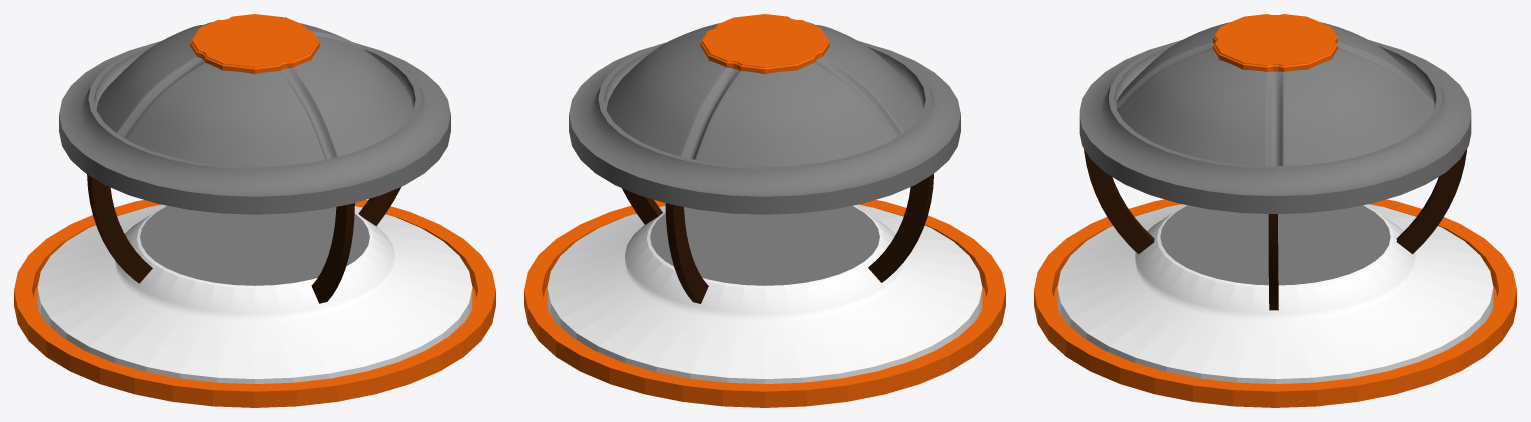
Rendered from Ornate Table FBX.fbx.
3 renders of one model, left to right at view 1: azimuth 30°, elevation 25°; view 2: azimuth 150°, elevation 25°; view 3: azimuth 270°, elevation 25°, orthographic.
Visible parts, largest first — view 1: polySurface18 (×2), polySurface10, pCylinder5, polySurface19, polySurface16, pCube5, pCube4, pCube6; view 2: polySurface18 (×2), polySurface10, pCylinder5, polySurface19, polySurface16, pCube5, pCube7, pCube6; view 3: polySurface18 (×2), polySurface10, pCylinder5, polySurface19, polySurface16, pCube7, pCube4, pCube6.
Part boxes in pixels (x1,y1,x2,y2): polySurface18 (×2): (37, 204, 472, 383); polySurface10: (96, 22, 413, 166); pCylinder5: (59, 41, 450, 214); polySurface19: (14, 200, 495, 407); polySurface16: (190, 14, 319, 74); pCube5: (87, 174, 152, 283); pCube4: (311, 203, 354, 303); pCube6: (358, 186, 401, 226); polySurface18 (×2): (547, 204, 982, 383); polySurface10: (606, 22, 923, 166); pCylinder5: (569, 41, 960, 214); polySurface19: (524, 200, 1005, 407); polySurface16: (700, 14, 829, 74); pCube5: (868, 173, 933, 282); pCube7: (665, 203, 708, 303); pCube6: (622, 188, 662, 224); polySurface18 (×2): (1057, 204, 1493, 383); polySurface10: (1116, 22, 1434, 165); pCylinder5: (1079, 39, 1471, 213); polySurface19: (1034, 199, 1516, 407); polySurface16: (1213, 14, 1337, 71); pCube7: (1396, 148, 1467, 254); pCube4: (1084, 149, 1154, 254); pCube6: (1268, 214, 1278, 310).
Size of the model in its own units: 4.88 by 2.97 by 4.88.
